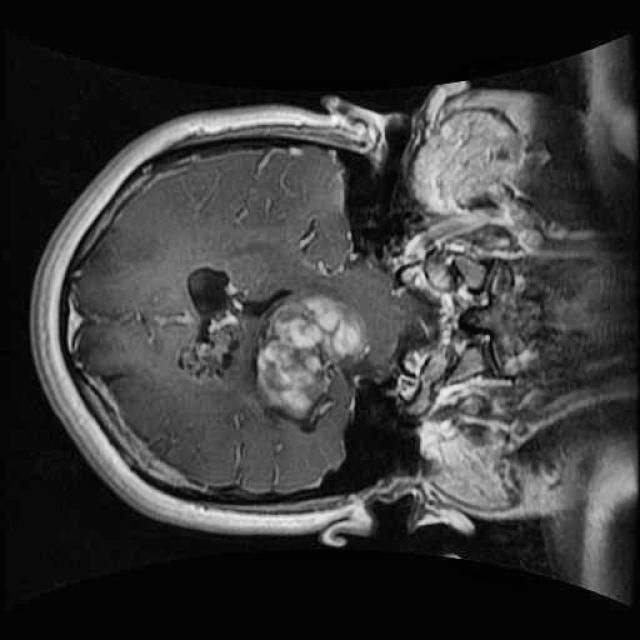Tumor: (238, 274, 376, 438)
